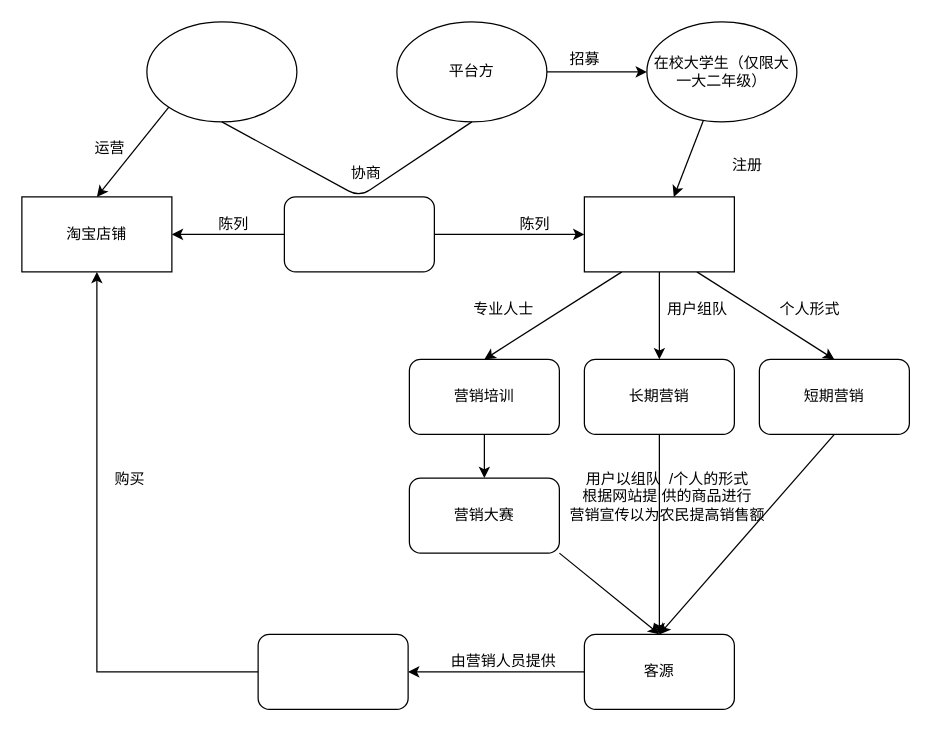
The diagram is 931 pixels wide and 731 high, and some of its shapes have lost their labels. The shapes that lost their labels are listed below. From the top down, each one's centre as x and y in pixels, then its label:
point (221, 71): 农民
point (358, 234): 商品信息
point (658, 234): 我们的xxx网站
point (332, 671): 专属优惠码
